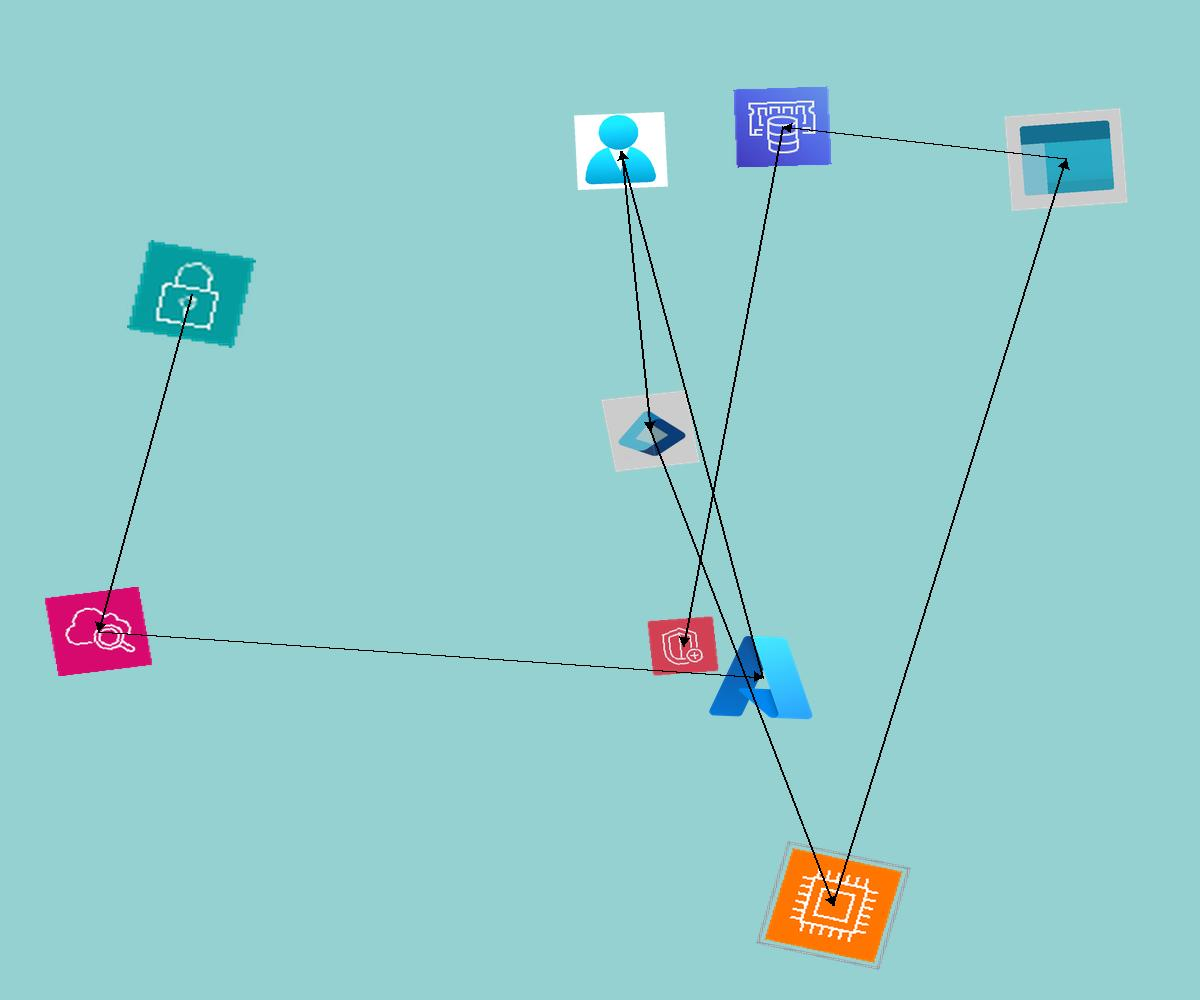AWS-Category_Compute: (756, 841, 911, 970)
AWS-CloudWatch: (44, 586, 153, 677)
AWS-ElastiCache: (733, 86, 832, 168)
AWS-Private-subnet: (127, 240, 256, 348)
AWS-Shield: (647, 616, 719, 676)
Azure_management-portal: (1004, 108, 1128, 211)
Azure_microsoft_entra: (601, 390, 700, 472)
Azure_services: (704, 628, 822, 726)
Azure_users: (574, 112, 668, 190)
